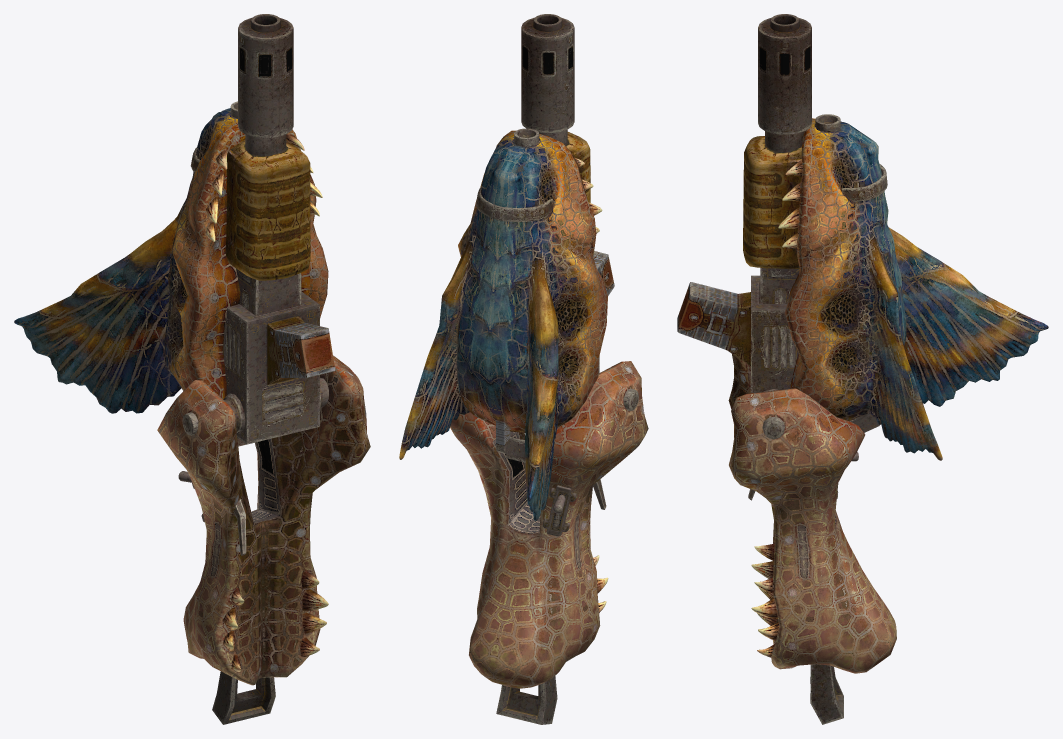
The model's file is hbg013.obj.
3 views of the same model, side by side, from view 1: azimuth 30°, elevation 25°; view 2: azimuth 150°, elevation 25°; view 3: azimuth 270°, elevation 25° (orthographic). The views are drawn at different scales.
Parts seen in each view (by area): view 1: hbg013_000_LOD_1, hbg013_002_LOD_1, hbg013_001_LOD_1; view 2: hbg013_000_LOD_1, hbg013_002_LOD_1, hbg013_001_LOD_1; view 3: hbg013_000_LOD_1, hbg013_002_LOD_1, hbg013_001_LOD_1.
Boxes of the visible parts, x1,y1,x2,y2 form: hbg013_000_LOD_1: (157, 101, 370, 724); hbg013_002_LOD_1: (14, 217, 181, 413); hbg013_001_LOD_1: (238, 14, 293, 137); hbg013_000_LOD_1: (399, 128, 648, 724); hbg013_002_LOD_1: (524, 273, 558, 520); hbg013_001_LOD_1: (521, 14, 574, 132); hbg013_000_LOD_1: (677, 114, 942, 724); hbg013_002_LOD_1: (889, 227, 1048, 406); hbg013_001_LOD_1: (758, 14, 811, 134).
Size of the model in its own units: 53.8 by 181 by 87.93.
